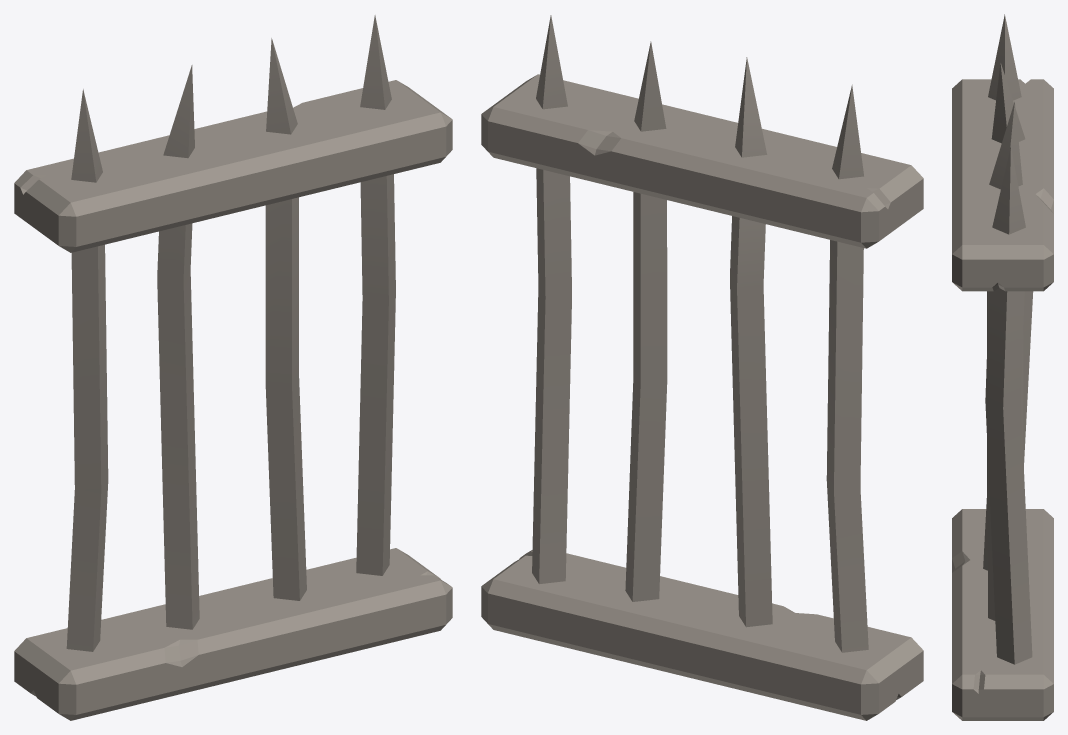
Rendered from m_dec_dung_grillWall.fbx.
The picture shows the model from 3 angles, left to right: view 1: azimuth 30°, elevation 25°; view 2: azimuth 150°, elevation 25°; view 3: azimuth 270°, elevation 25°; orthographic projection. The views are drawn at different scales.
Parts seen in each view (by area): view 1: m_dec_dung_grillWall; view 2: m_dec_dung_grillWall; view 3: m_dec_dung_grillWall.
Boxes of the visible parts, left/top/right/bottom form: m_dec_dung_grillWall: left=14, top=15, right=452, bottom=720; m_dec_dung_grillWall: left=481, top=15, right=923, bottom=720; m_dec_dung_grillWall: left=952, top=14, right=1053, bottom=720.
Bounding box in the file's own units: 2 × 2.94 × 0.488.
